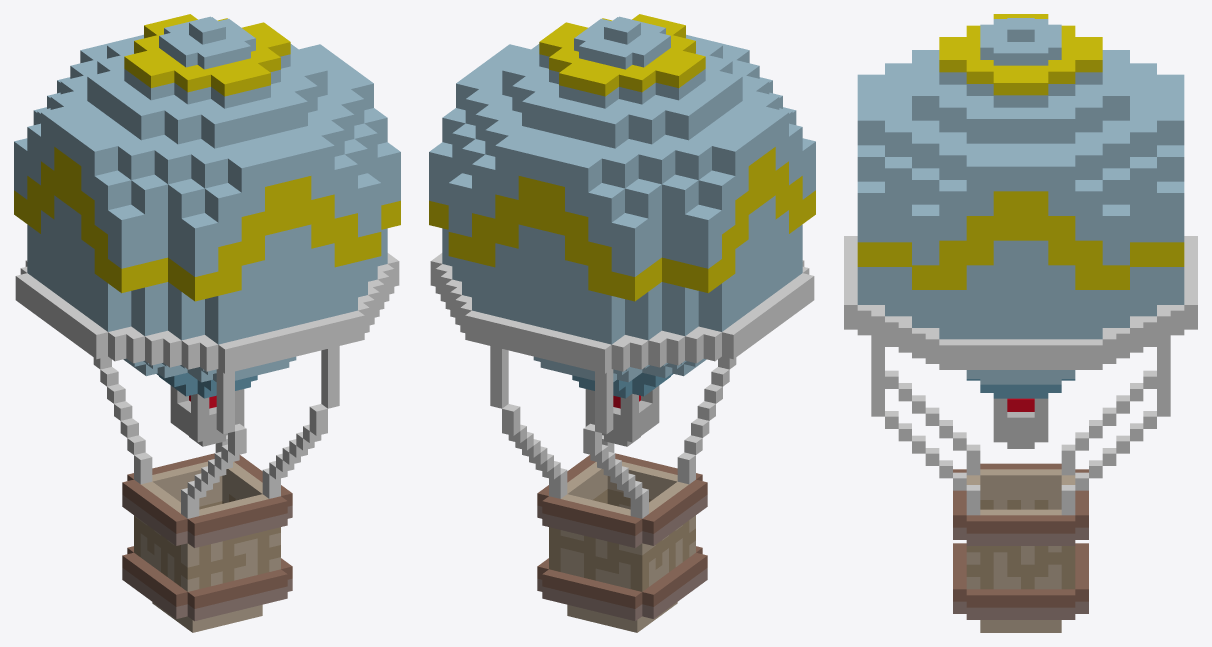
File: hot_air_ballon_voxel.glb
The picture shows the model from 3 angles, left to right: view 1: azimuth 30°, elevation 25°; view 2: azimuth 150°, elevation 25°; view 3: azimuth 270°, elevation 25°; orthographic projection.
Visible parts, largest first — view 1: Object_2; view 2: Object_2; view 3: Object_2.
Boxes of the visible parts, x1=… form: Object_2: x1=14, y1=14, x2=400, y2=632; Object_2: x1=429, y1=14, x2=815, y2=632; Object_2: x1=844, y1=14, x2=1197, y2=632.
Bounding box in the file's own units: 26 × 48 × 26.
